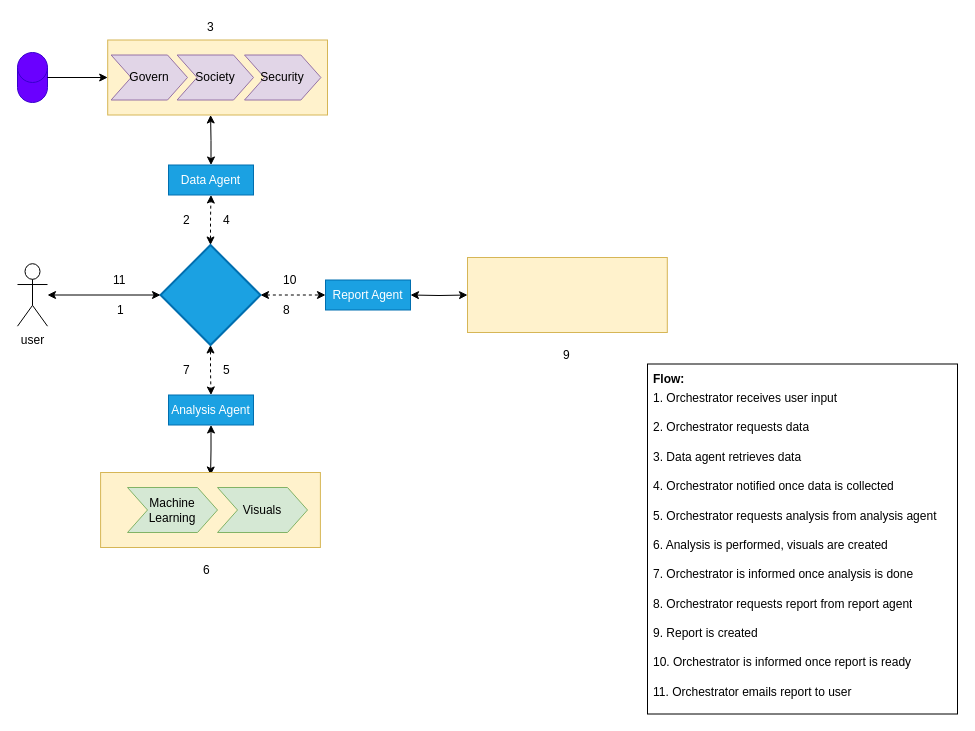
This 975x731 diagram has some shape labels left out. Here are the shapes that lost their labels. From the top down, the box of each, then its label:
(16, 52, 48, 102): DB
(159, 244, 261, 346): Orchestrator Agent
